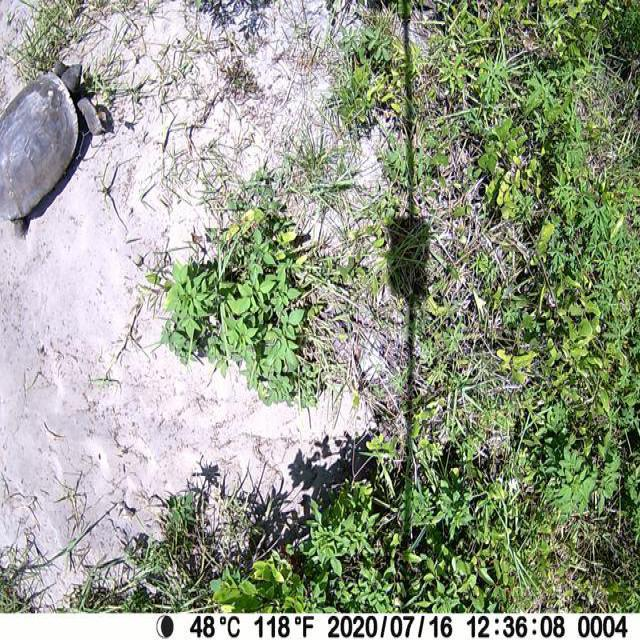tortoise: (0, 59, 105, 237)
